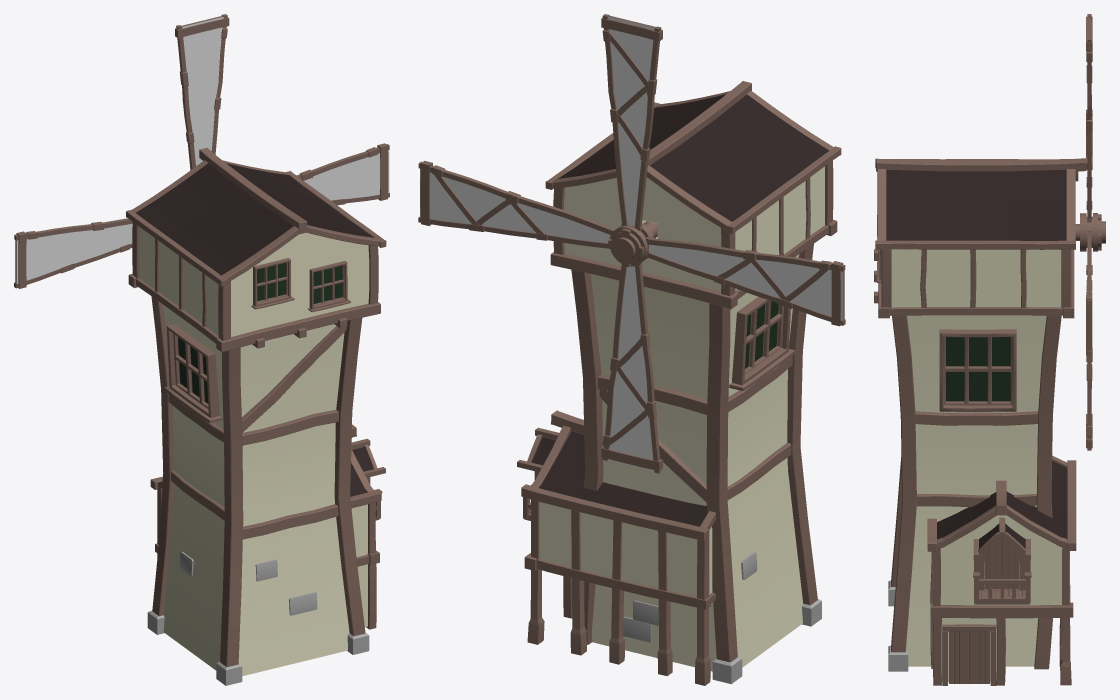
File: WINDMILL.fbx
3 views of the same model, side by side, from view 1: azimuth 30°, elevation 25°; view 2: azimuth 150°, elevation 25°; view 3: azimuth 270°, elevation 25° (orthographic). The views are drawn at different scales.
Parts seen in each view (by area): view 1: baseDown; view 2: baseDown; view 3: baseDown.
Part boxes in pixels (x1,y1,x2,y2): baseDown: (14,14,389,685); baseDown: (418,14,845,685); baseDown: (874,14,1105,685).
Size of the model in its own units: 580 by 856 by 296.
